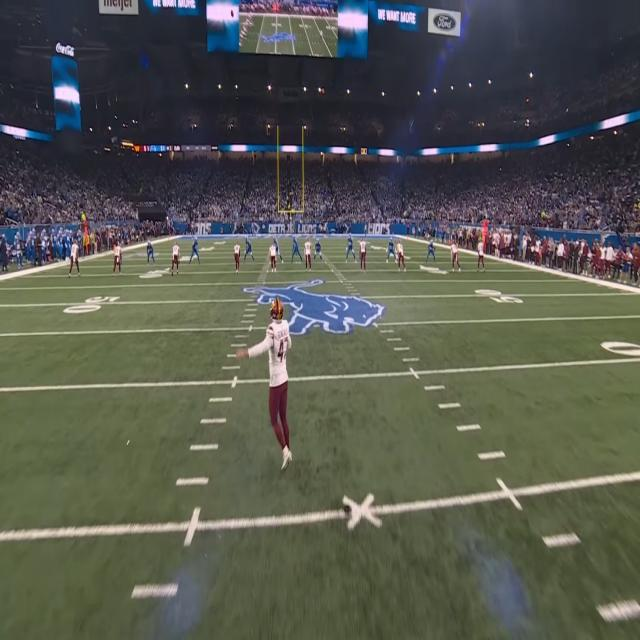Ball: (230, 9, 234, 19)
